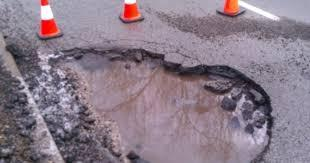pothole: (35, 46, 273, 163)
